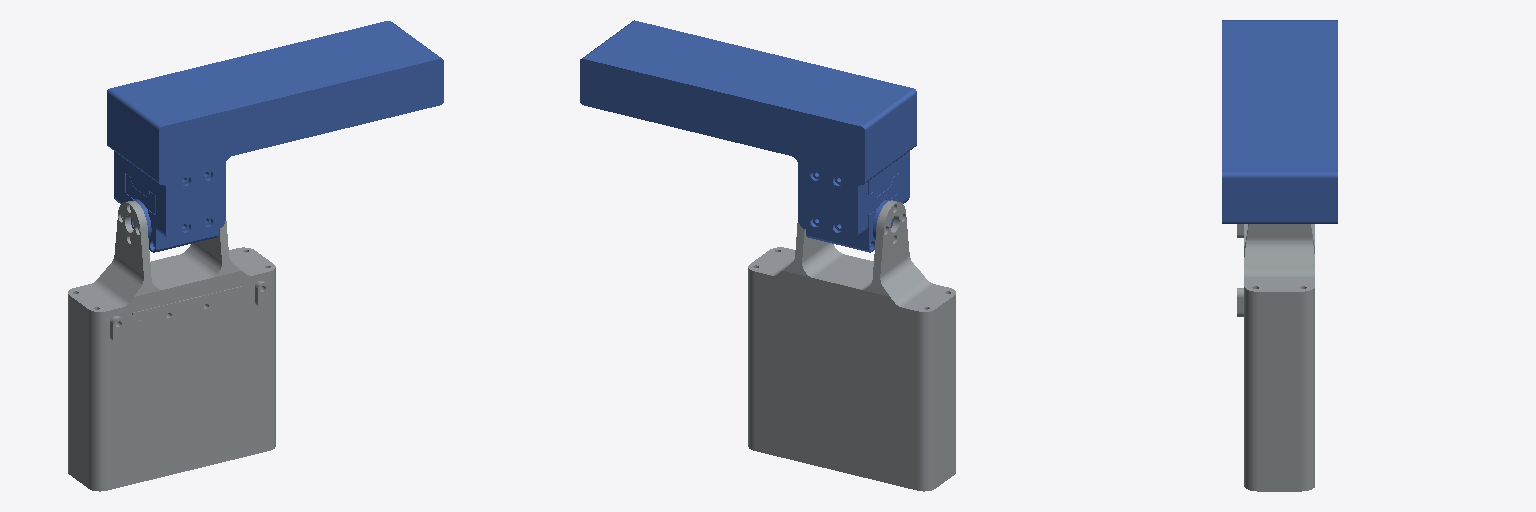
robot.urdf — sysID_XC430_extended:
<?xml version="1.0" ?>
<robot name="sysID_XC430_extended">
  <mujoco>
    <compiler strippath="false" balanceinertia="true" discardvisual="false"/>
  </mujoco>
  <link name="world">
    <inertial>
      <origin xyz="0.0 0.0 0.0" rpy="0.0 0.0 0.0"/>
      <mass value="0.0"/>
      <inertia ixx="0.0" iyy="0.0" izz="0.0" ixy="0" ixz="0" iyz="0"/>
    </inertial>
  </link>
  <link name="base">
    <inertial>
      <origin xyz="0.0267655 -0.0456118 0.399612" rpy="1.24496 0.00507289 1.57051"/>
      <mass value="0.1339"/>
      <inertia ixx="0.0002805477996761602" iyy="0.000264497711439828" izz="5.3611688884011744e-05" ixy="0" ixz="0" iyz="0"/>
    </inertial>
    <visual name="base_visual">
      <origin xyz="0.0267655 -0.0456118 0.399612" rpy="0.0 0.0 0.0"/>
      <geometry>
        <mesh filename="assets/merged/base_visual.stl" scale="1.0 1.0 1.0"/>
      </geometry>
      <material name="base_visual_material"/>
    </visual>
    <collision name="base_collision">
      <origin xyz="0.0267655 -0.0456118 0.399612" rpy="0.0 0.0 0.0"/>
      <geometry>
        <mesh filename="assets/merged/base_collision.stl" scale="1.0 1.0 1.0"/>
      </geometry>
    </collision>
  </link>
  <joint type="fixed" name="world2base_fixed">
    <parent link="world"/>
    <child link="base"/>
    <origin xyz="0.0 0.0 0.0" rpy="0.0 0.0 0.0"/>
  </joint>
  <link name="arm_430">
    <inertial>
      <origin xyz="-0.0787491 9.81819e-06 -0.019" rpy="0.0 0.0 1.57125"/>
      <mass value="0.3549"/>
      <inertia ixx="0.0005559830440384413" iyy="0.00034075495596155874" izz="0.000291749" ixy="0" ixz="0" iyz="0"/>
    </inertial>
    <visual name="arm_430_visual">
      <origin xyz="-0.0787491 9.81819e-06 -0.019" rpy="3.14159 -1.5708 0.0"/>
      <geometry>
        <mesh filename="assets/merged/arm_430_visual.stl" scale="1.0 1.0 1.0"/>
      </geometry>
      <material name="arm_430_visual_material"/>
    </visual>
    <collision name="arm_430_collision">
      <origin xyz="-0.0787491 9.81819e-06 -0.019" rpy="3.14159 -1.5708 0.0"/>
      <geometry>
        <mesh filename="assets/merged/arm_430_collision.stl" scale="1.0 1.0 1.0"/>
      </geometry>
    </collision>
  </link>
  <link name="joint_0_body">
    <inertial>
      <origin xyz="0.0 0.0 0.0" rpy="0.0 0.0 0.0"/>
      <mass value="0.001"/>
      <inertia ixx="1e-09" iyy="1e-09" izz="1e-09" ixy="0" ixz="0" iyz="0"/>
    </inertial>
  </link>
  <joint type="revolute" name="joint_0">
    <parent link="base"/>
    <child link="joint_0_body"/>
    <origin xyz="0.0215522 -0.045682 0.372238" rpy="-3.14159 -1.5708 0.0"/>
    <axis xyz="0.0 0.0 1.0"/>
    <limit lower="0.0" upper="3.14159265358979" effort="100" velocity="100"/>
  </joint>
  <joint type="fixed" name="joint_0_offset">
    <parent link="joint_0_body"/>
    <child link="arm_430"/>
    <origin xyz="0.0 0.0 0.0" rpy="0.0 0.0 0.0"/>
  </joint>
  <material name="base_visual_material">
    <color rgba="0.315732 0.44617 0.708641 1"/>
  </material>
  <material name="base_collision_material">
    <color rgba="0.315732 0.44617 0.708641 1"/>
  </material>
  <material name="arm_430_visual_material">
    <color rgba="0.634878 0.653046 0.669534 1"/>
  </material>
  <material name="arm_430_collision_material">
    <color rgba="0.634878 0.653046 0.669534 1"/>
  </material>
</robot>

--- Render facts (derived) ---
3 views of the same robot in one strip: view 1: azimuth 30°, elevation 25°; view 2: azimuth 150°, elevation 25°; view 3: azimuth 270°, elevation 25° (orthographic).
Robot: sysID_XC430_extended — 4 links, 3 joints (1 revolute, 2 fixed); root link world; default pose: every joint at zero.
Links seen in each view (by area): view 1: arm_430, base; view 2: arm_430, base; view 3: base, arm_430.
Link boxes in pixels (left/top/right/bottom): arm_430: left=68, top=201, right=275, bottom=491; base: left=107, top=21, right=443, bottom=252; arm_430: left=748, top=200, right=955, bottom=491; base: left=580, top=20, right=916, bottom=252; base: left=1222, top=20, right=1337, bottom=223; arm_430: left=1237, top=224, right=1314, bottom=491.
Bounding box of the posed robot: 0.183 × 0.0488 × 0.1857 m (x, y, z).
Meshes: 2 distinct files referenced, 2 mesh visuals loaded (2 binary STL).
